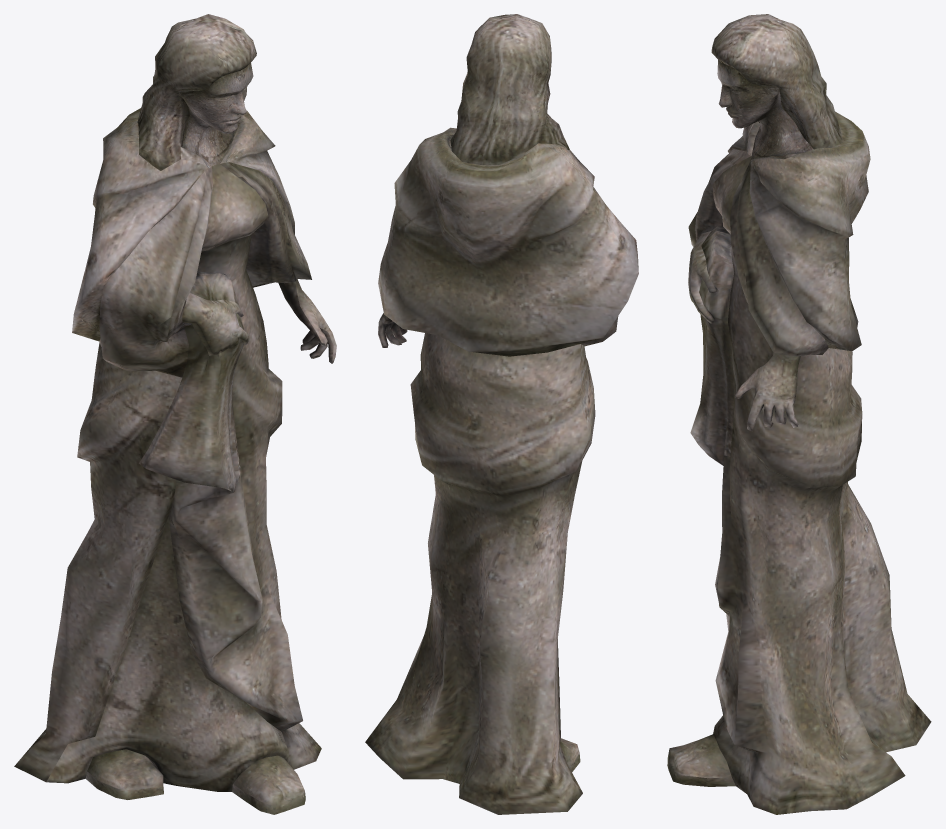
Rendered from statue.obj.
3 views of the same model, side by side, from view 1: azimuth 30°, elevation 25°; view 2: azimuth 150°, elevation 25°; view 3: azimuth 270°, elevation 25° (orthographic). The views are drawn at different scales.
Parts seen in each view (by area): view 1: ORN_Statues_MourningWoman_v01; view 2: ORN_Statues_MourningWoman_v01; view 3: ORN_Statues_MourningWoman_v01.
Boxes of the visible parts, box(x1,y1,x2,y2) form: ORN_Statues_MourningWoman_v01: box(14, 14, 336, 814); ORN_Statues_MourningWoman_v01: box(365, 14, 638, 814); ORN_Statues_MourningWoman_v01: box(667, 14, 931, 814).
Bounding box in the file's own units: 64.55 × 184 × 59.74.
